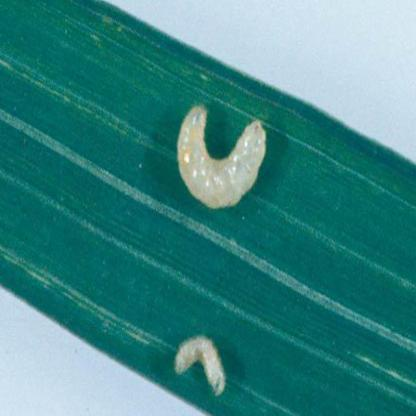whorl-maggot: (174, 94, 268, 220), (169, 324, 231, 402)
